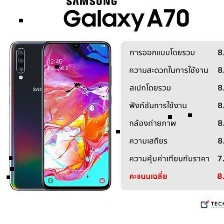phone: (39, 36, 114, 194), (8, 38, 78, 193)
